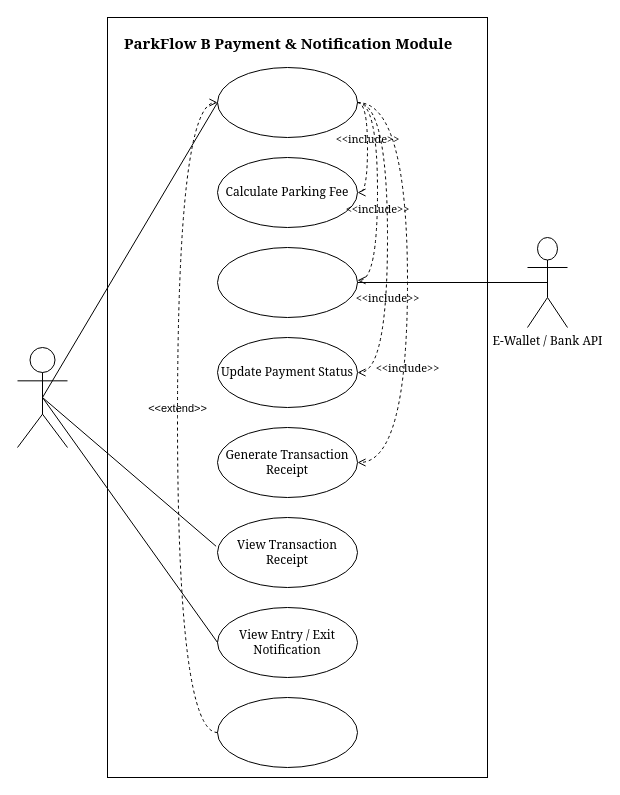
Image size: 620x795. Some labels were removed from this diagram. The centre of each missing label's shape, as x and y in pixels:
"Complete Exit Payment" belongs at (x=287, y=102).
"Handle Payment Failure" belongs at (x=287, y=732).
"Process Cashless Payment" belongs at (x=287, y=282).
"Student" belongs at (x=42, y=397).
